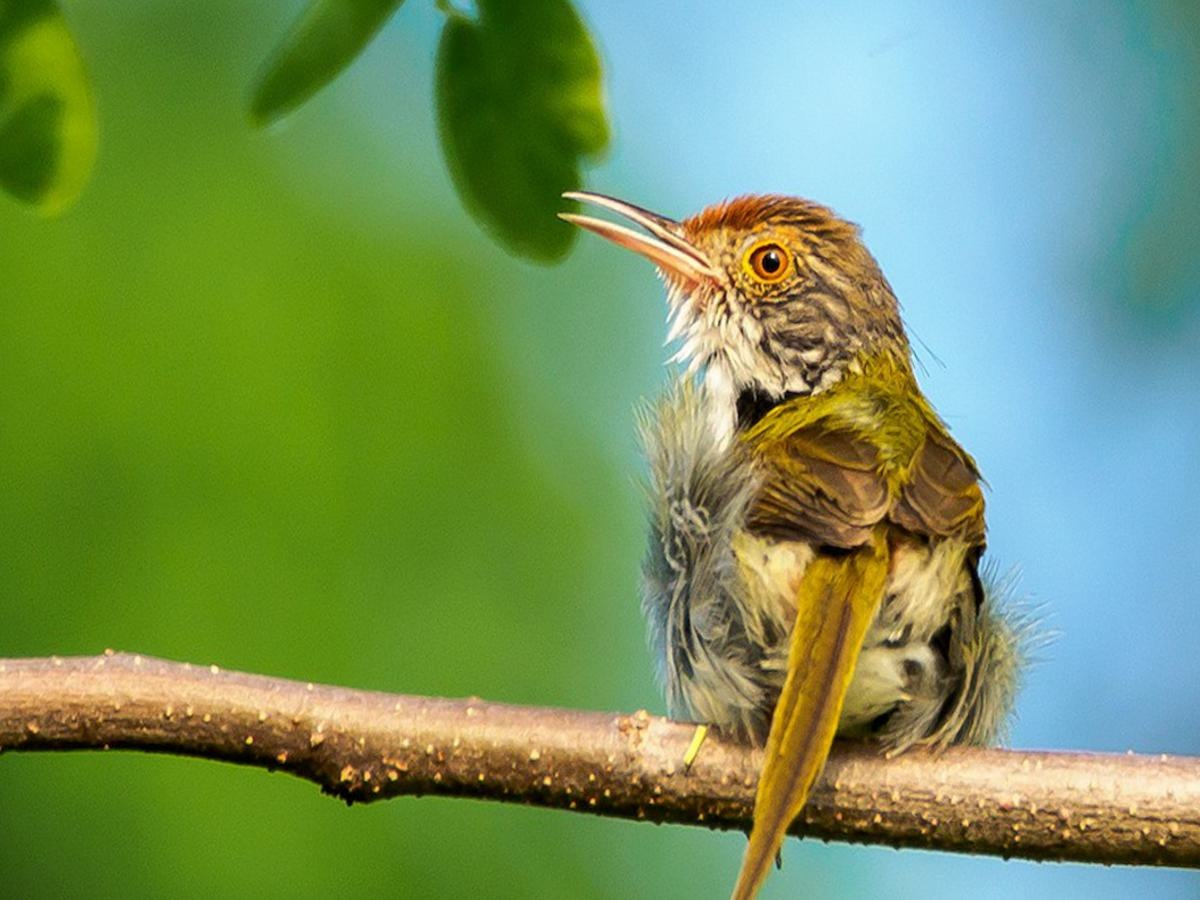tailorbird: (513, 153, 988, 900)
